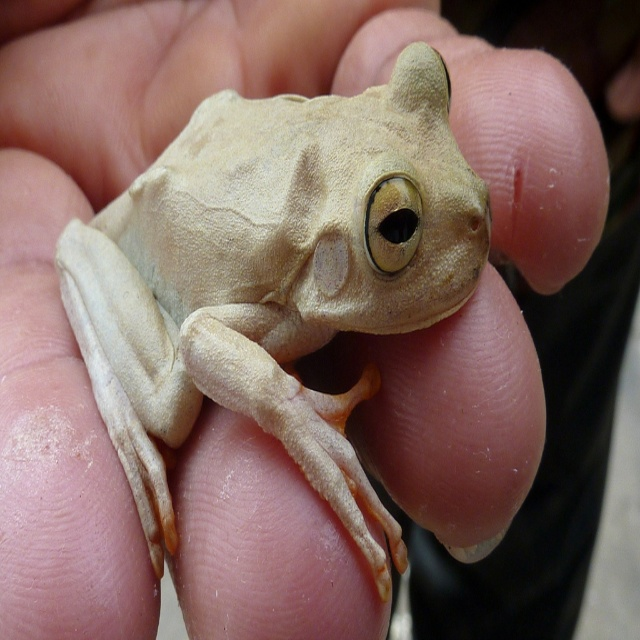Frog: (53, 43, 493, 604)
